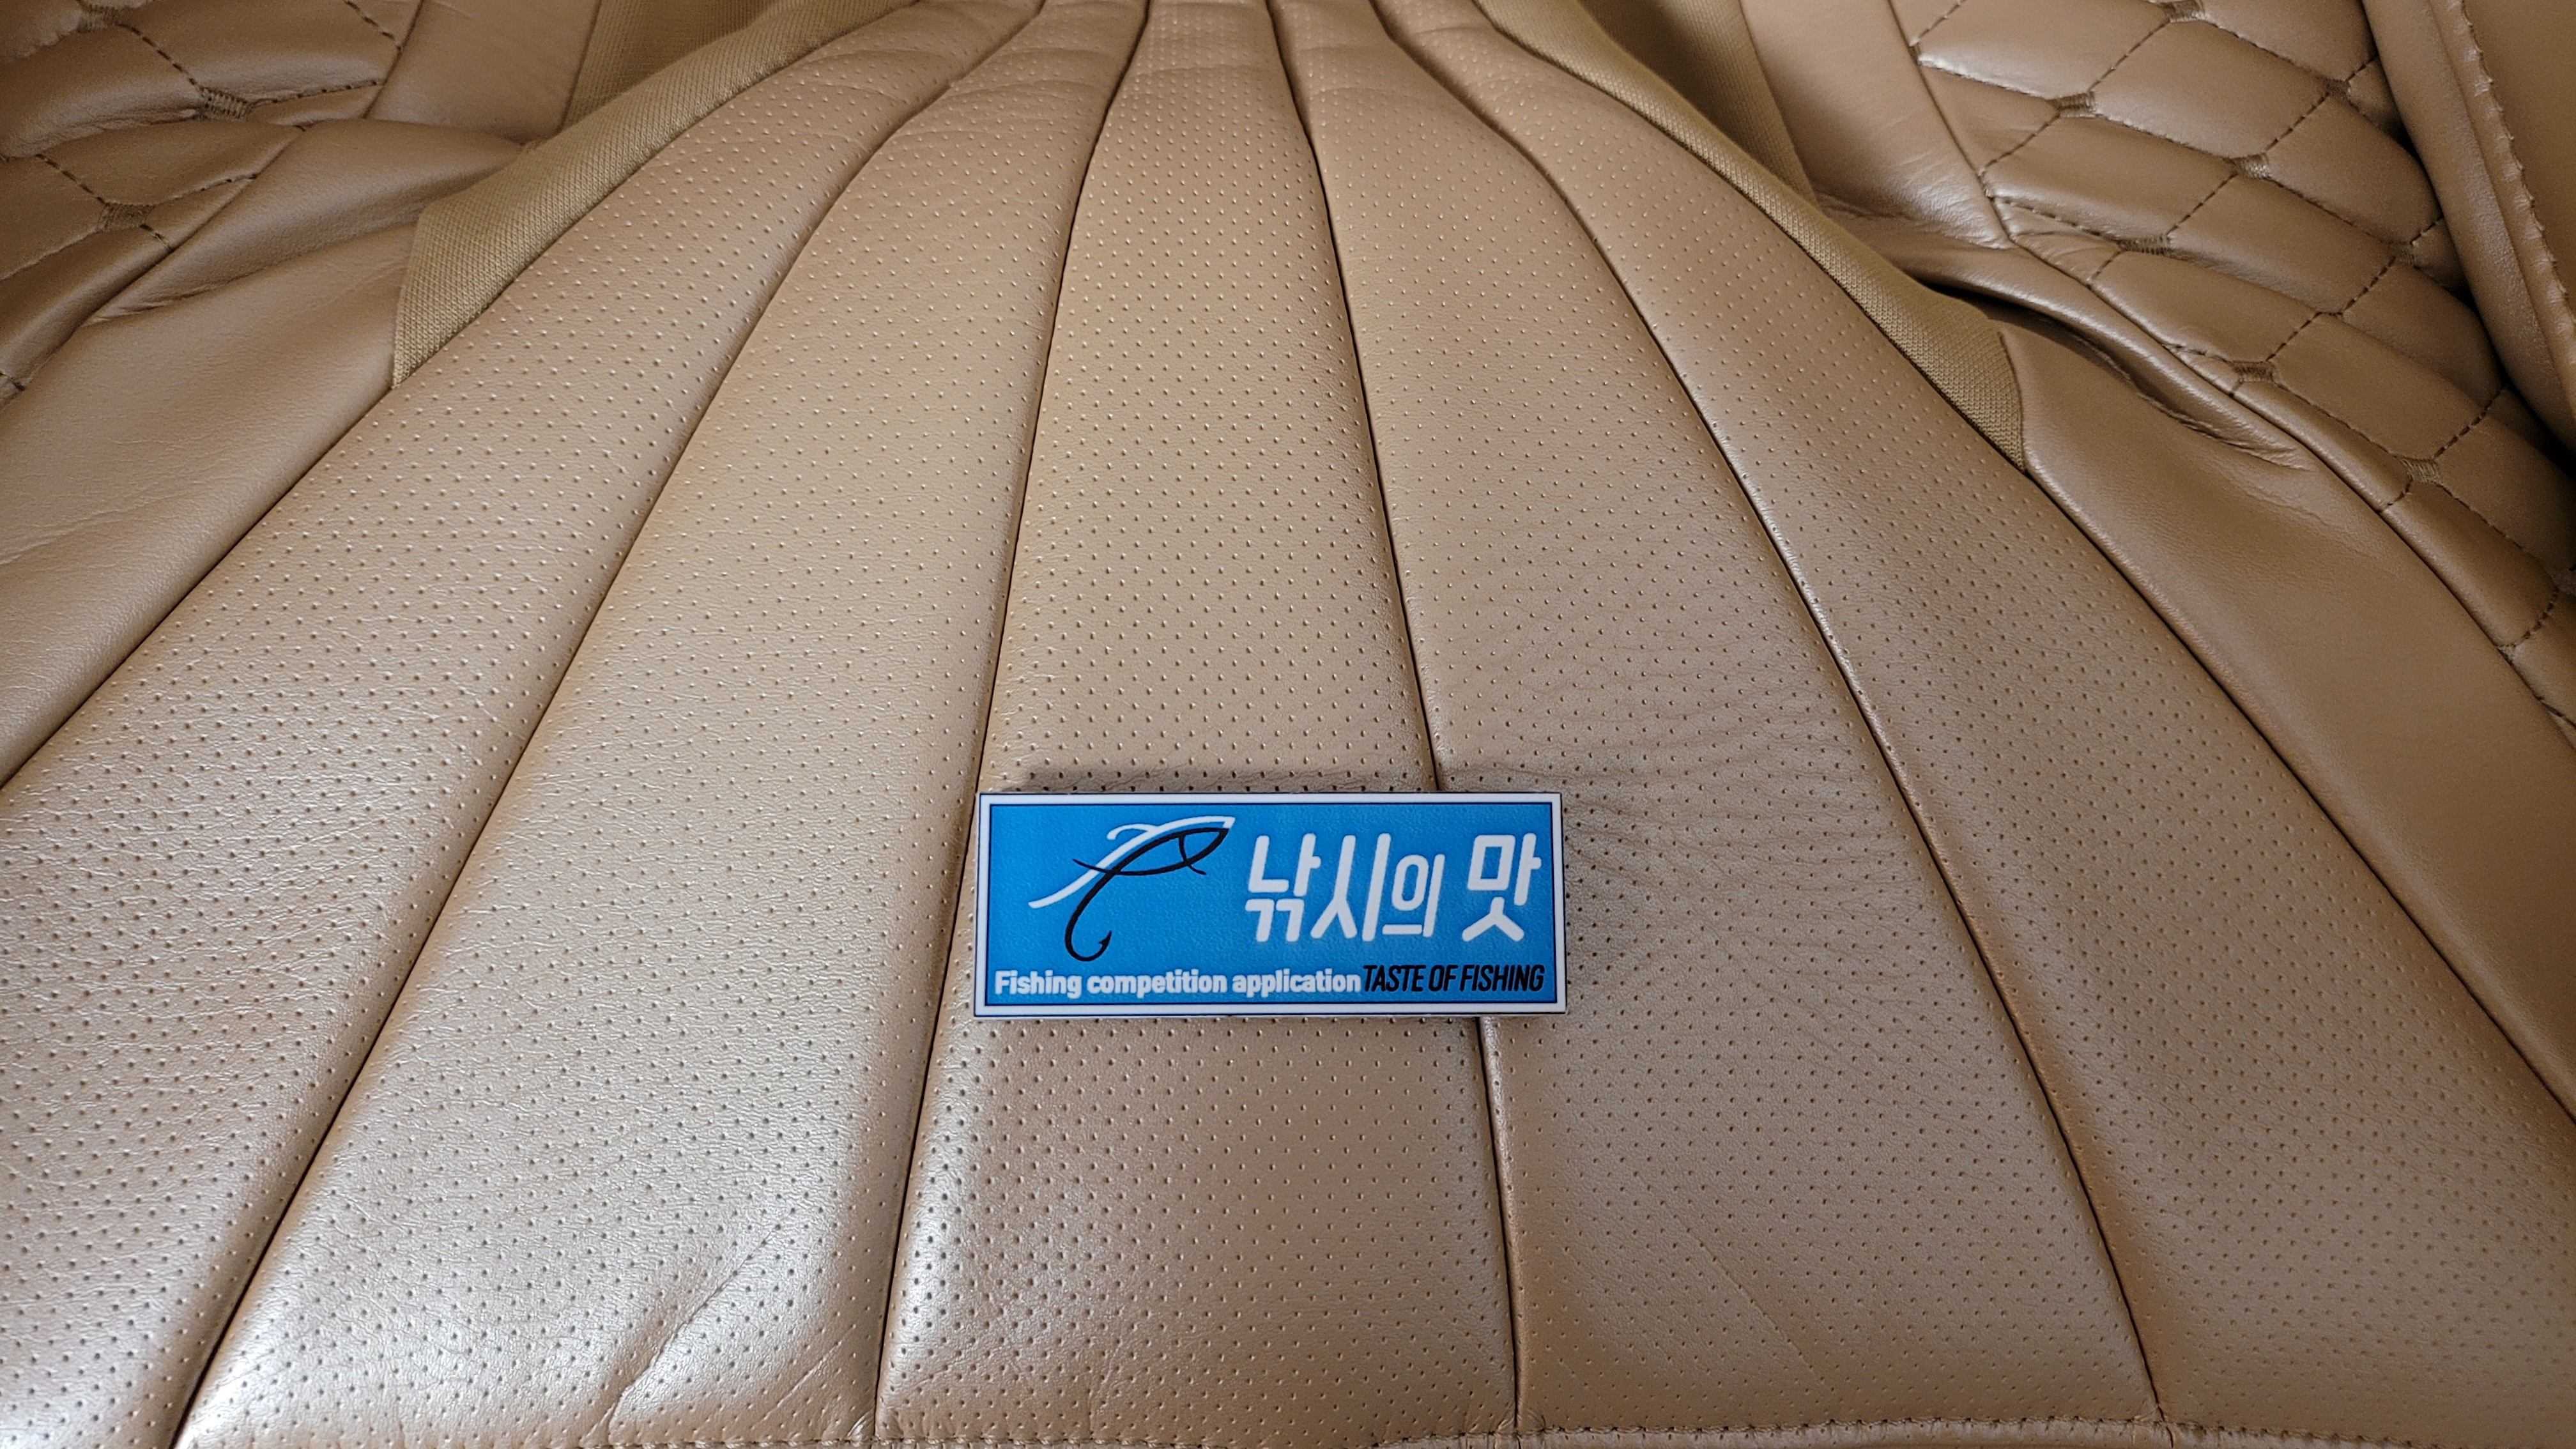tag: (984, 791, 1564, 1010)
